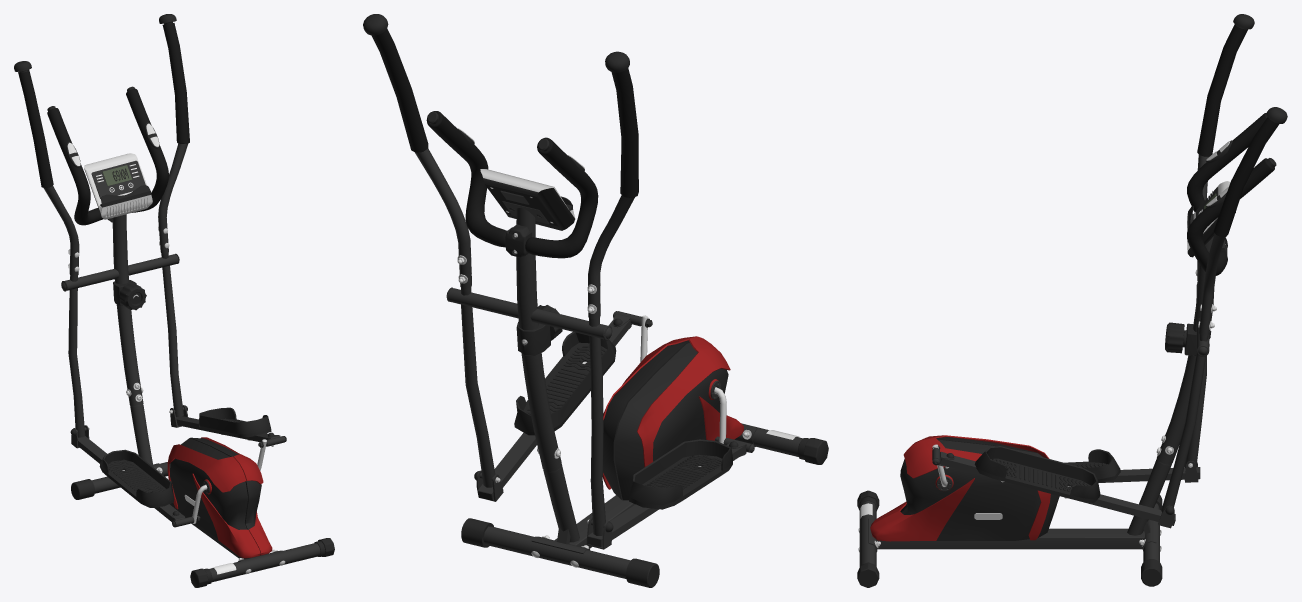
3 renders of one model, left to right at view 1: azimuth 30°, elevation 25°; view 2: azimuth 150°, elevation 25°; view 3: azimuth 270°, elevation 25°, orthographic. The views are drawn at different scales.
Parts seen in each view (by area): view 1: polySurface144, left_staff1, polySurface147, left_staff, polySurface57, polySurface111, polySurface44, polySurface55, polySurface17, polySurface11, polySurface51, pCube40 (+3 smaller); view 2: polySurface144, left_staff1, left_staff, polySurface55, polySurface57, polySurface147, polySurface44, polySurface111, polySurface6, polySurface51, polySurface17, polySurface45 (+8 smaller); view 3: polySurface144, polySurface55, left_staff1, polySurface147, polySurface5, polySurface57, left_staff, polySurface44, polySurface45, polySurface111, polySurface11, polySurface139 (+1 smaller).
Boxes of the visible parts, bbox=[...] form: polySurface144: bbox=[170, 437, 261, 538]; left_staff1: bbox=[158, 14, 189, 416]; polySurface147: bbox=[167, 437, 272, 558]; left_staff: bbox=[14, 61, 85, 437]; polySurface57: bbox=[47, 88, 168, 225]; polySurface111: bbox=[99, 449, 174, 507]; polySurface44: bbox=[112, 214, 143, 405]; polySurface55: bbox=[169, 405, 286, 447]; polySurface17: bbox=[84, 153, 152, 219]; polySurface11: bbox=[209, 543, 320, 582]; polySurface51: bbox=[61, 253, 179, 291]; pCube40: bbox=[91, 160, 145, 198]; polySurface144: bbox=[603, 340, 728, 500]; left_staff1: bbox=[363, 14, 495, 487]; left_staff: bbox=[588, 51, 638, 535]; polySurface55: bbox=[474, 311, 652, 501]; polySurface57: bbox=[426, 111, 598, 258]; polySurface147: bbox=[602, 336, 743, 489]; polySurface44: bbox=[516, 207, 561, 471]; polySurface111: bbox=[629, 439, 733, 509]; polySurface6: bbox=[483, 526, 630, 578]; polySurface51: bbox=[446, 287, 612, 340]; polySurface17: bbox=[480, 169, 575, 230]; polySurface45: bbox=[543, 464, 579, 542]; polySurface144: bbox=[900, 437, 1059, 540]; polySurface55: bbox=[932, 445, 1175, 528]; left_staff1: bbox=[1161, 107, 1287, 512]; polySurface147: bbox=[870, 435, 1050, 541]; polySurface5: bbox=[876, 528, 1144, 549]; polySurface57: bbox=[1187, 113, 1274, 275]; left_staff: bbox=[1184, 14, 1254, 467]; polySurface44: bbox=[1156, 236, 1214, 464]; polySurface45: bbox=[1127, 459, 1171, 535]; polySurface111: bbox=[1064, 449, 1120, 482]; polySurface11: bbox=[859, 500, 876, 566]; polySurface139: bbox=[1098, 467, 1199, 482].
Bounding box in the file's own units: 4.05 × 9.16 × 7.33.
